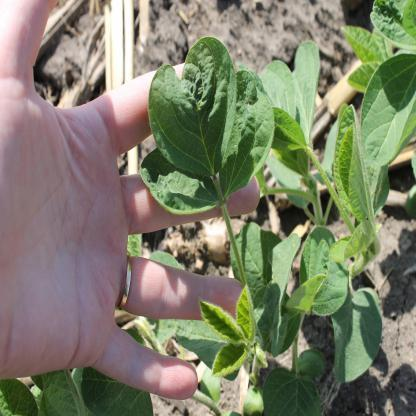Soyabean leaf: (148, 34, 238, 177)
